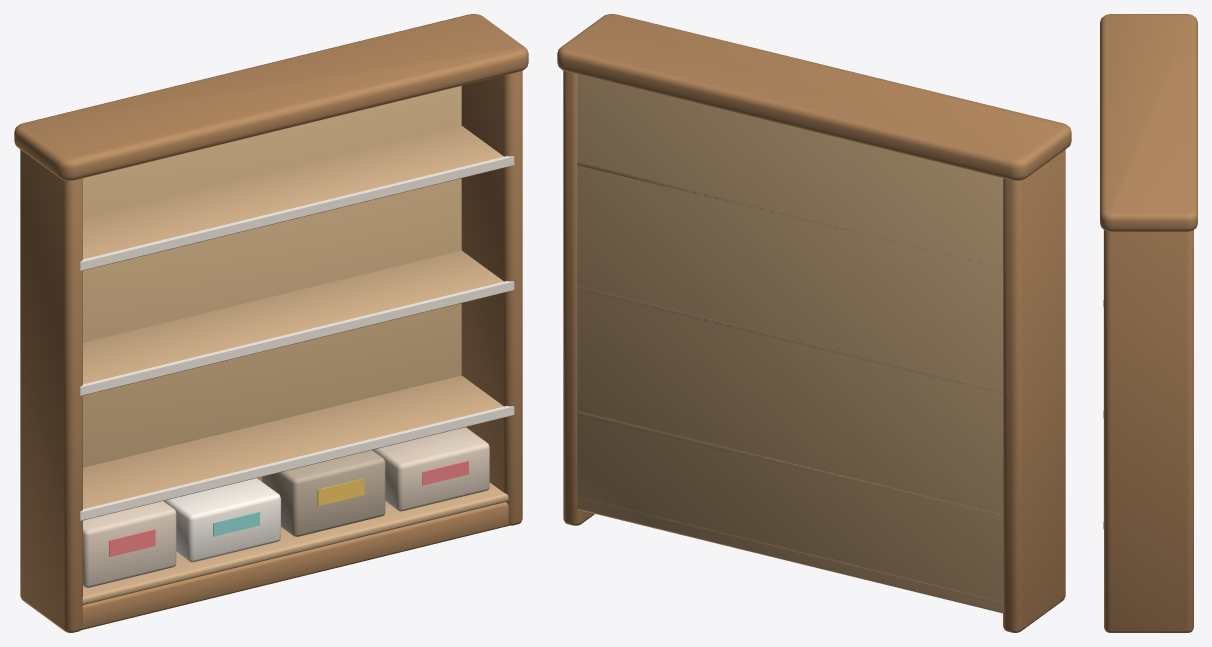
The model's file is shelf_unit_wide.glb.
3 views of the same model, side by side, from view 1: azimuth 30°, elevation 25°; view 2: azimuth 150°, elevation 25°; view 3: azimuth 270°, elevation 25° (orthographic). The views are drawn at different scales.
Visible parts, largest first — view 1: shelf_unit_wide; view 2: shelf_unit_wide; view 3: shelf_unit_wide.
Part boxes in pixels (x1,y1,x2,y2): shelf_unit_wide: [14, 14, 528, 632]; shelf_unit_wide: [557, 14, 1071, 632]; shelf_unit_wide: [1100, 14, 1197, 632].
Bounding box in the file's own units: 2.36 × 2.28 × 0.48.
